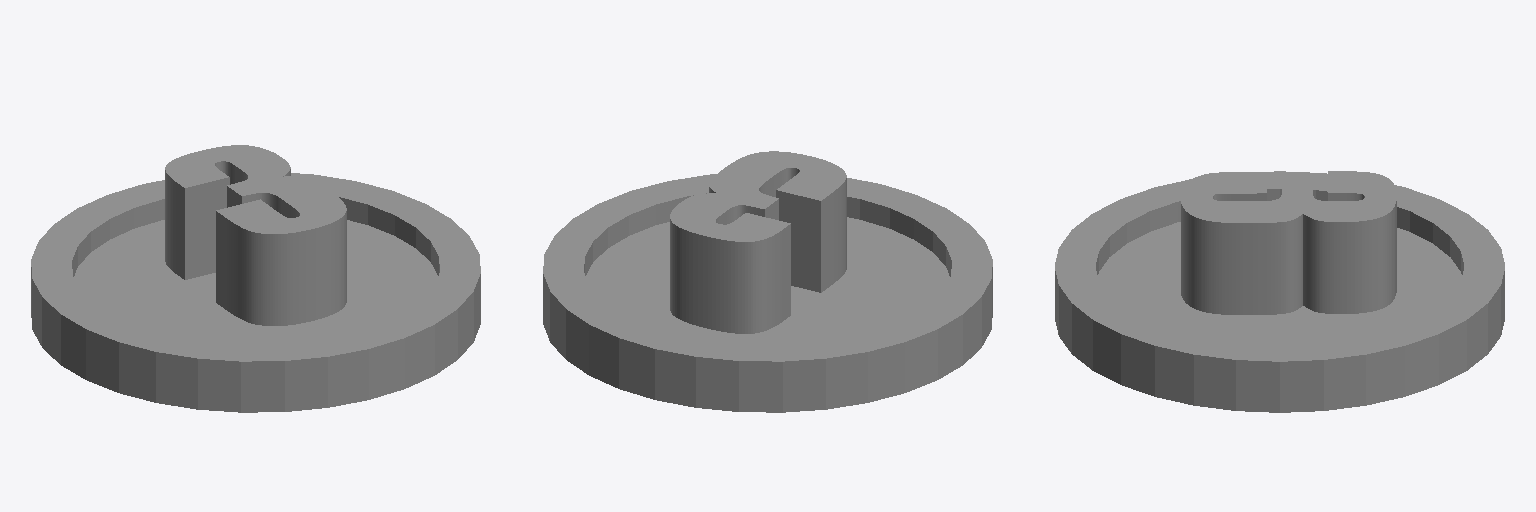
The model's file is cavalry_piece.obj.
3 views of the same model, side by side, from view 1: azimuth 30°, elevation 25°; view 2: azimuth 150°, elevation 25°; view 3: azimuth 270°, elevation 25° (orthographic).
Visible parts, largest first — view 1: Cylinder; view 2: Cylinder; view 3: Cylinder.
Part boxes in pixels (x1,y1,x2,y2): Cylinder: (31, 145, 480, 412); Cylinder: (543, 151, 992, 412); Cylinder: (1055, 171, 1504, 412).
Size of the model in its own units: 8 by 2.41 by 8.